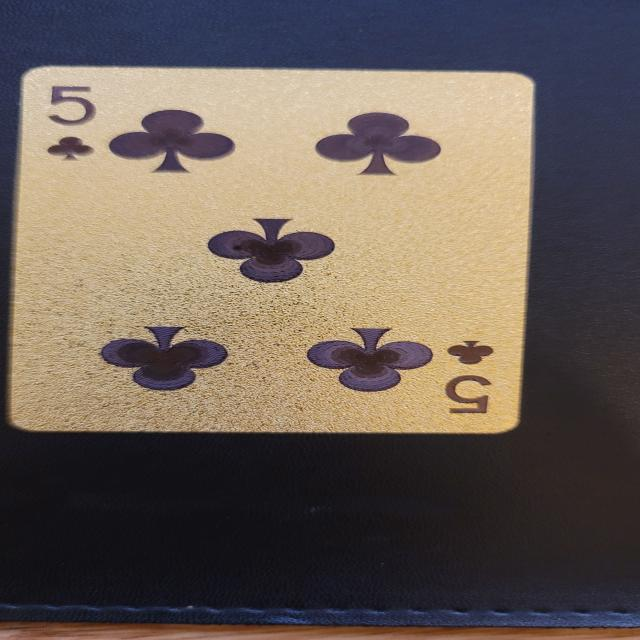5 of clubs: (3, 65, 544, 438)
